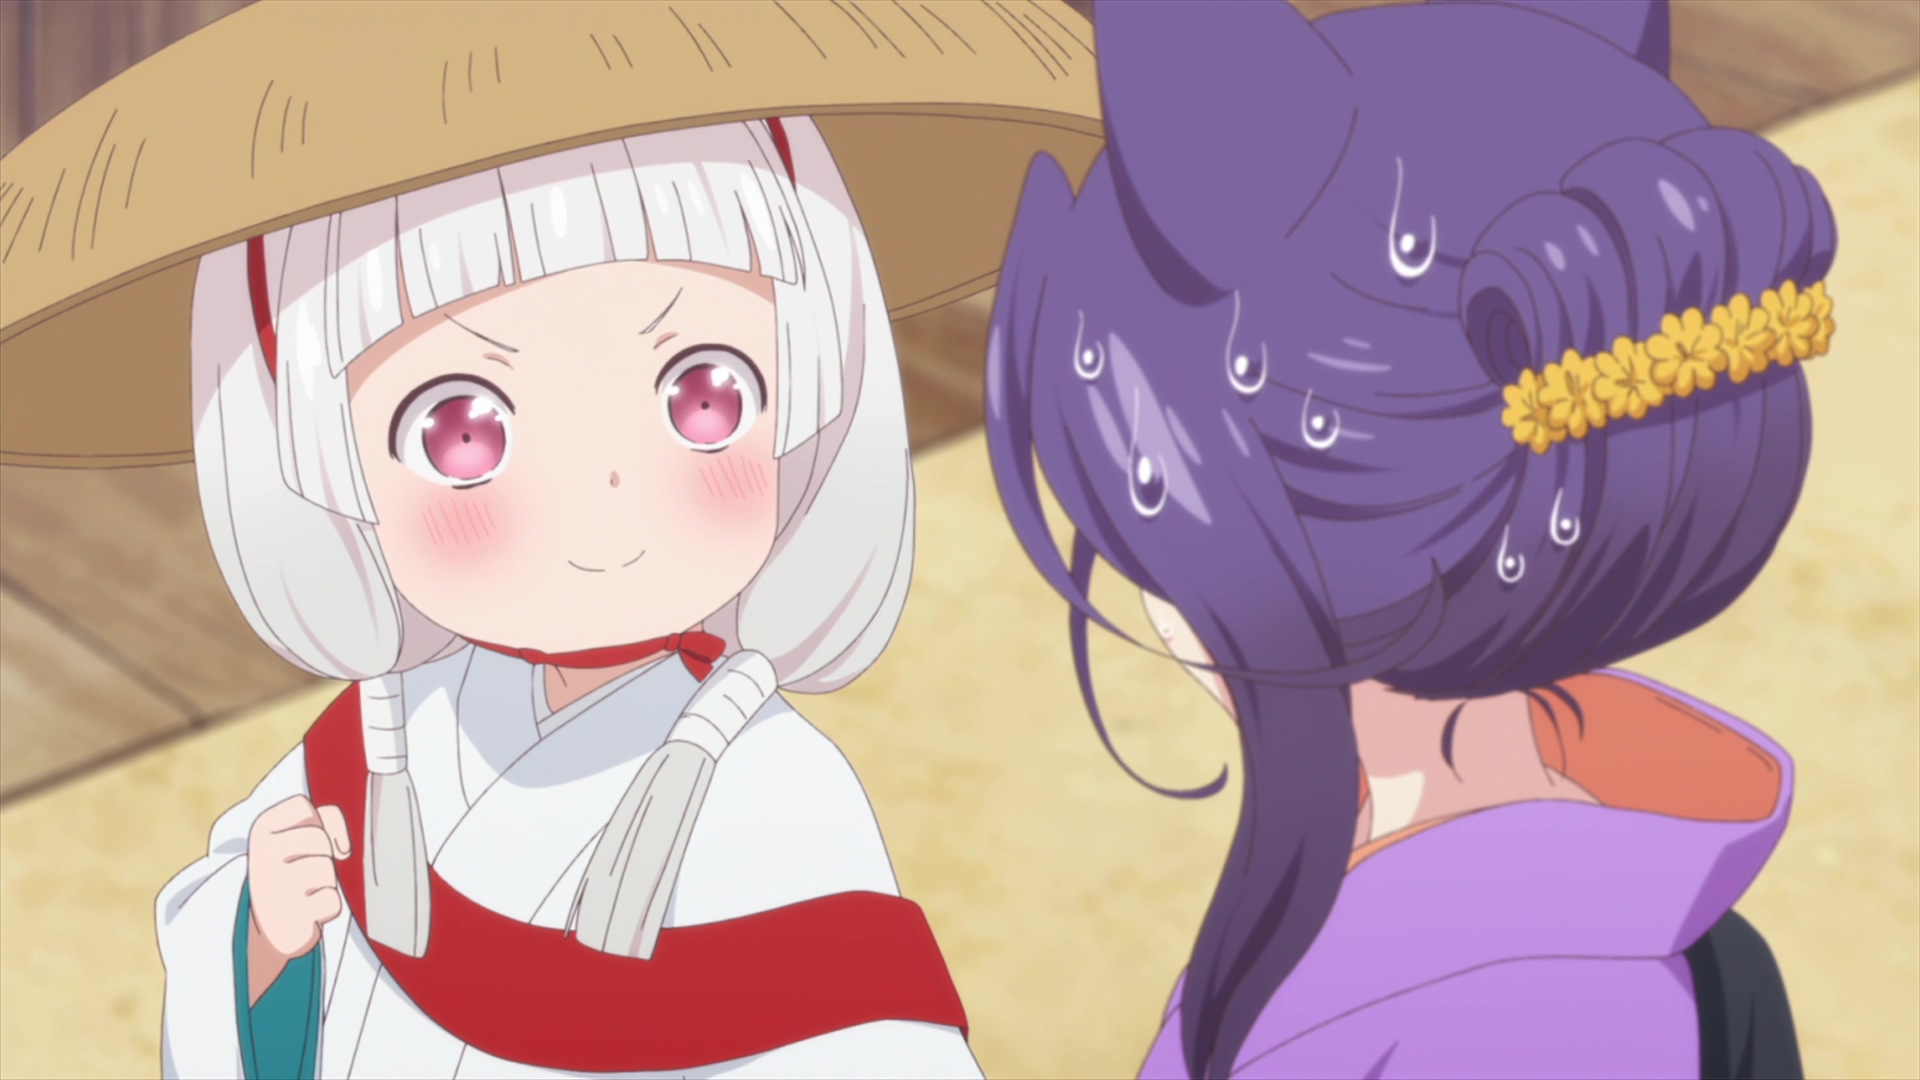其他: (1, 1, 1100, 1080)
皋: (985, 1, 1838, 1080)
